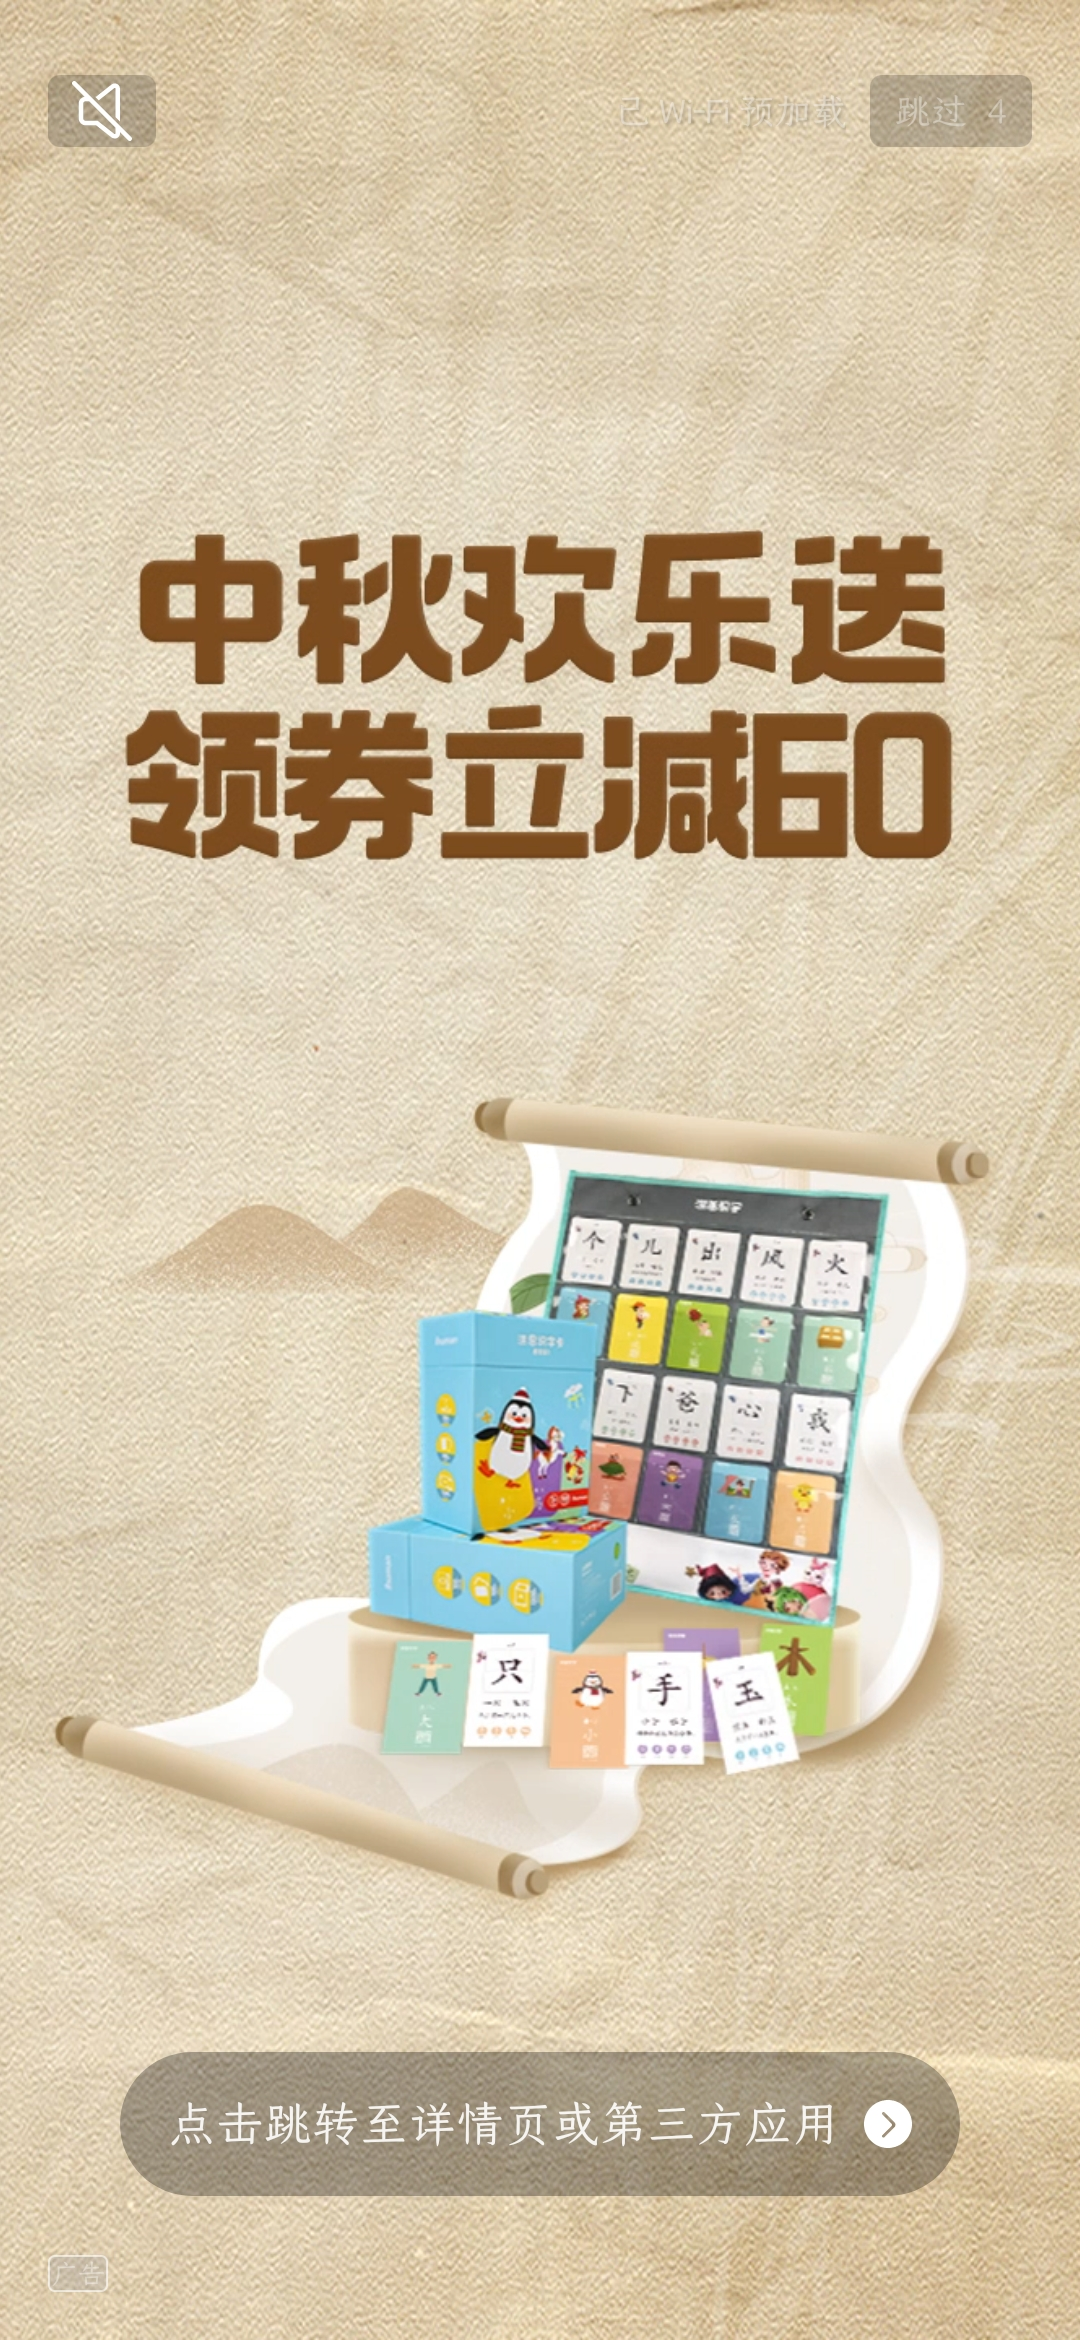skip: (873, 79, 1028, 137)
